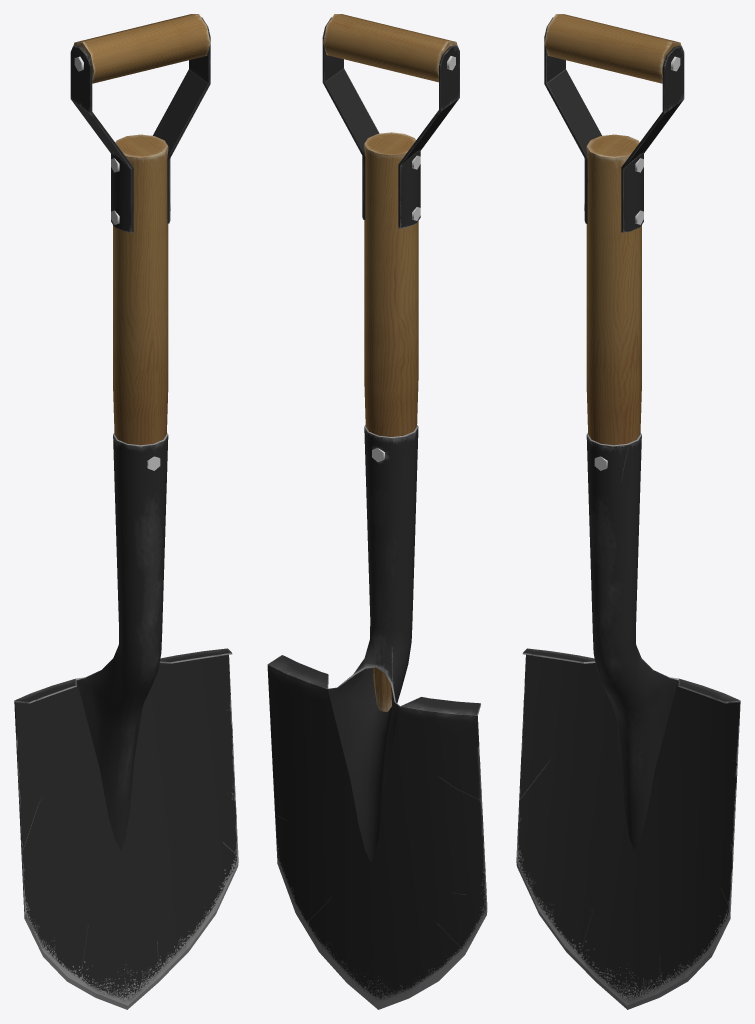
The model's file is shovel_03_lowpoly.FBX.
3 renders of one model, left to right at view 1: azimuth 30°, elevation 25°; view 2: azimuth 150°, elevation 25°; view 3: azimuth 330°, elevation 25°, orthographic.
Visible parts, largest first — view 1: shovel_03_lowpoly; view 2: shovel_03_lowpoly; view 3: shovel_03_lowpoly.
Part boxes in pixels (box(x1,y1,x2,y2)): shovel_03_lowpoly: box(14, 14, 238, 1009); shovel_03_lowpoly: box(267, 14, 487, 1009); shovel_03_lowpoly: box(516, 14, 740, 1009).
Bounding box in the file's own units: 10.84 × 48.09 × 3.7.
